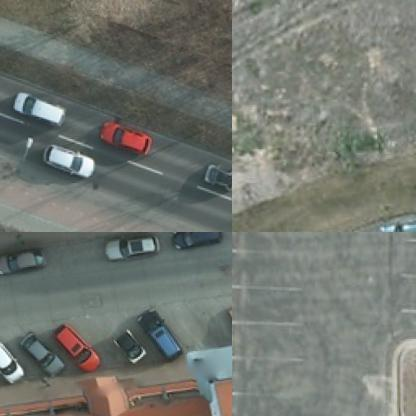car: (138, 310, 188, 358), (54, 325, 104, 372), (104, 232, 162, 267), (21, 330, 63, 378), (99, 121, 154, 156), (0, 245, 49, 280), (16, 93, 68, 124), (0, 337, 28, 385), (48, 144, 94, 173), (113, 327, 149, 364), (171, 232, 227, 253), (204, 163, 231, 194), (378, 210, 415, 231)
